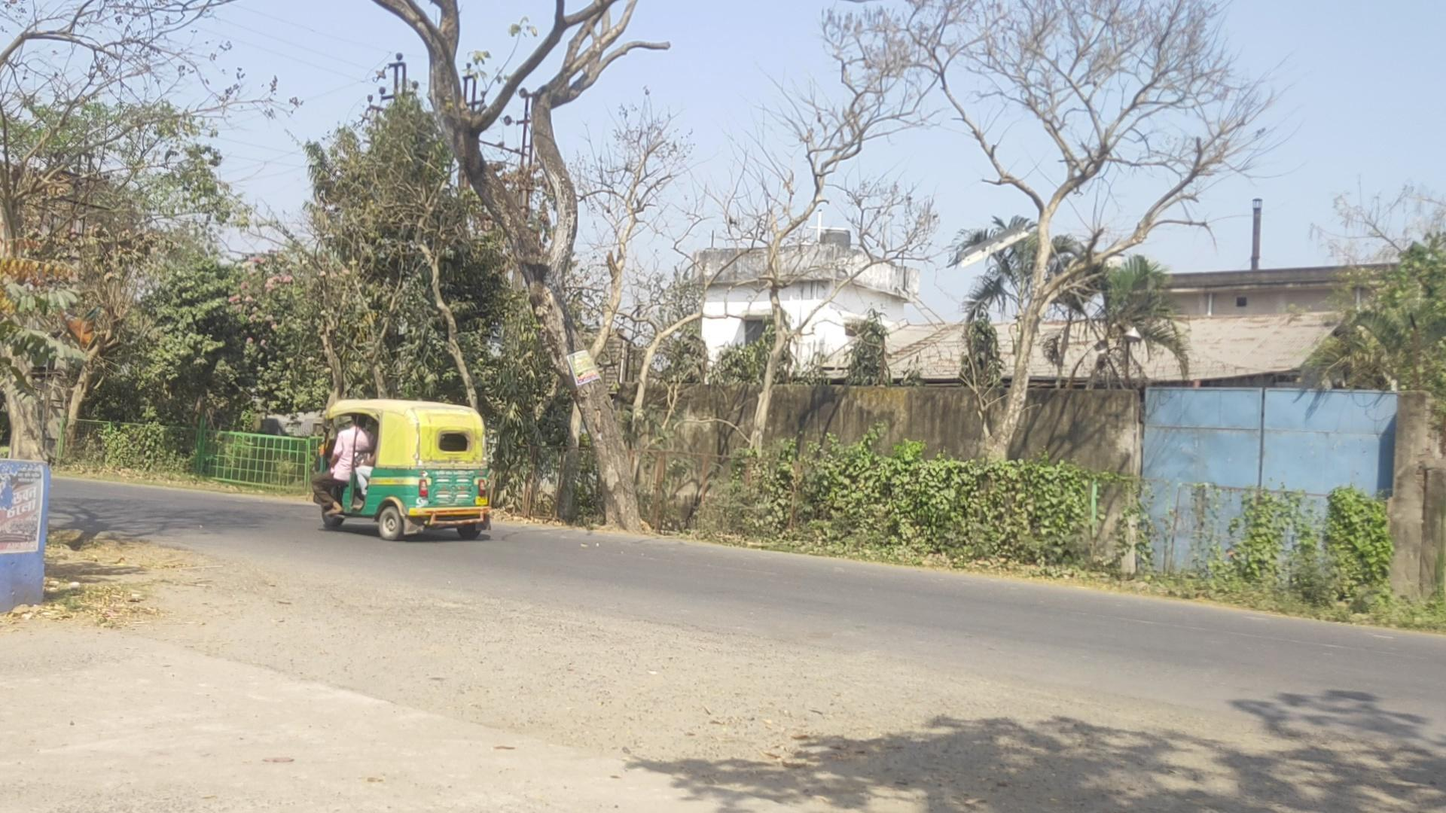Auto: (311, 397, 492, 541)
